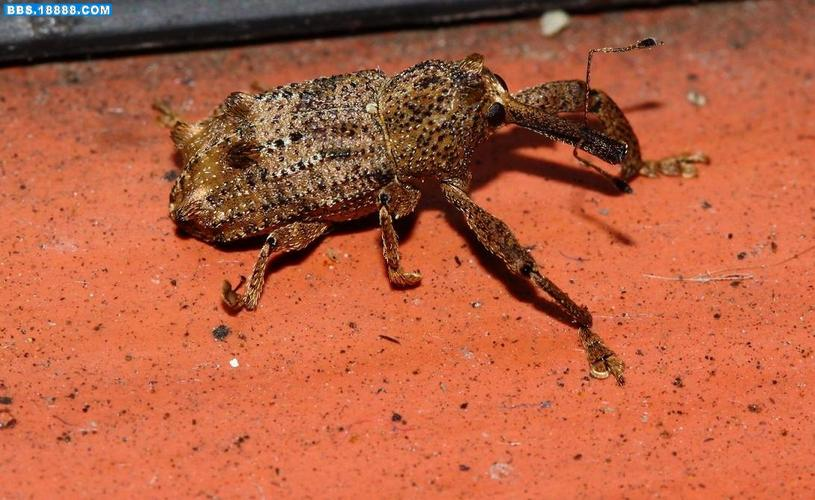Curculionidae: (152, 37, 711, 386)
